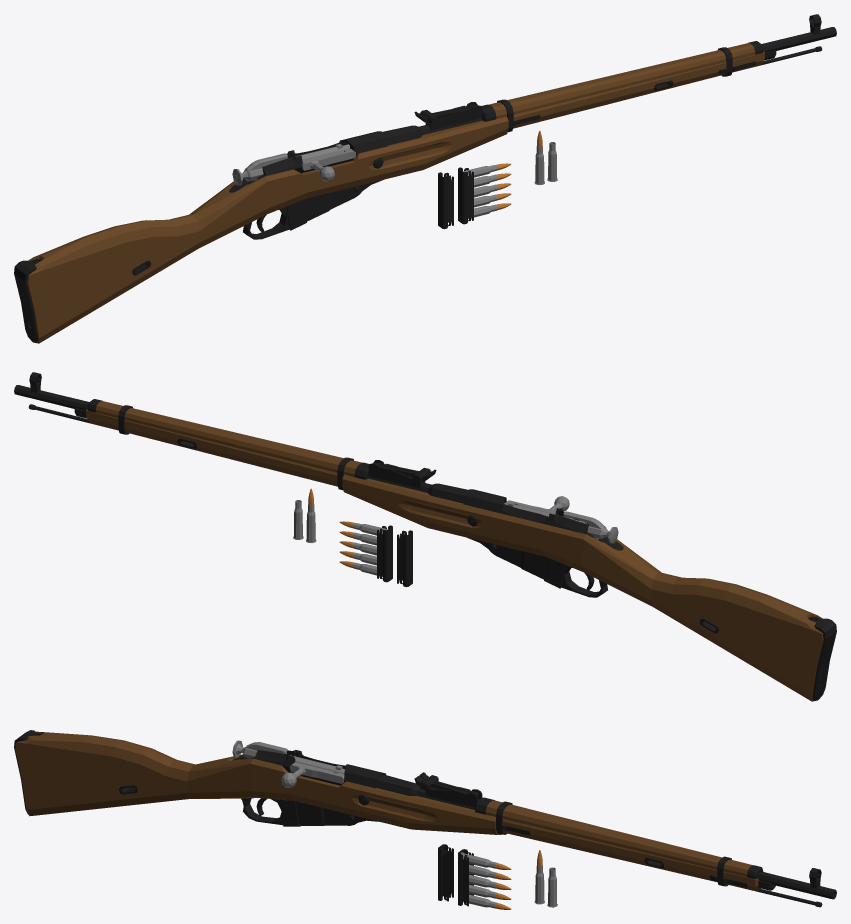
3 views of the same model, one above another, from view 1: azimuth 30°, elevation 25°; view 2: azimuth 150°, elevation 25°; view 3: azimuth 330°, elevation 25° (orthographic).
Parts seen in each view (by area): view 1: mosin9130 stock_7, mosin9130 handguard upper_8, mosin9130 receiver_3, mosin9130 barrel_2, mosin9130 clip_9, mosin9130 bolt head_5, mosin9130 clip empty_10, mosin9130 bolt body_6; view 2: mosin9130 stock_7, mosin9130 handguard upper_8, mosin9130 receiver_3, mosin9130 barrel_2, mosin9130 clip_9, mosin9130 clip empty_10, mosin9130 bolt body_6; view 3: mosin9130 stock_7, mosin9130 handguard upper_8, mosin9130 receiver_3, mosin9130 barrel_2, mosin9130 clip_9, mosin9130 bolt head_5, mosin9130 clip empty_10, mosin9130 bolt body_6, Object_4.
Boxes of the visible parts, x1,y1,x2,y2 form: mosin9130 stock_7: (14,46,822,343); mosin9130 handguard upper_8: (481,41,763,132); mosin9130 receiver_3: (229,131,387,239); mosin9130 barrel_2: (382,14,836,145); mosin9130 clip_9: (458,163,511,224); mosin9130 bolt head_5: (288,144,355,181); mosin9130 clip empty_10: (438,172,453,229); mosin9130 bolt body_6: (232,144,343,185); mosin9130 stock_7: (28,404,836,701); mosin9130 handguard upper_8: (87,399,369,490); mosin9130 receiver_3: (463,489,621,597); mosin9130 barrel_2: (14,372,468,503); mosin9130 clip_9: (339,521,392,582); mosin9130 clip empty_10: (397,530,412,587); mosin9130 bolt body_6: (508,502,618,543); mosin9130 stock_7: (14,730,822,907); mosin9130 handguard upper_8: (475,797,763,886); mosin9130 receiver_3: (232,750,386,826); mosin9130 barrel_2: (376,772,836,899); mosin9130 clip_9: (458,849,511,909); mosin9130 bolt head_5: (281,755,344,787); mosin9130 clip empty_10: (438,844,453,901); mosin9130 bolt body_6: (232,740,342,773); Object_4: (534,865,544,904).
Size of the model in its own units: 12.39 by 2 by 0.8322.
